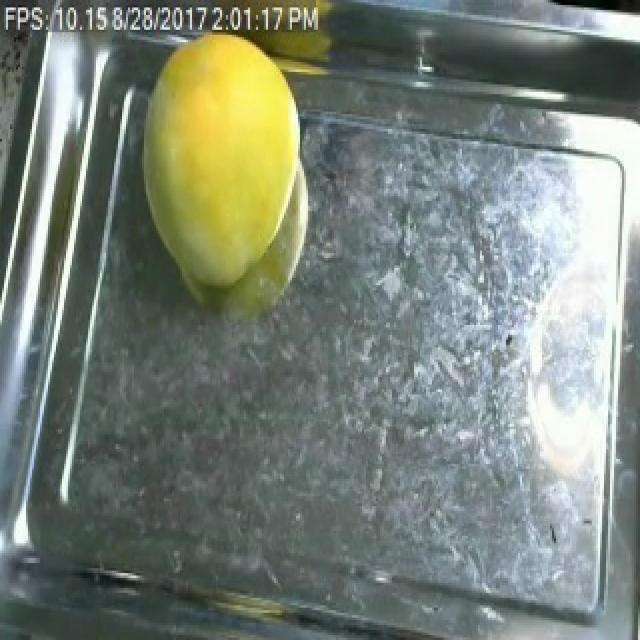fruit: (124, 20, 324, 315)
